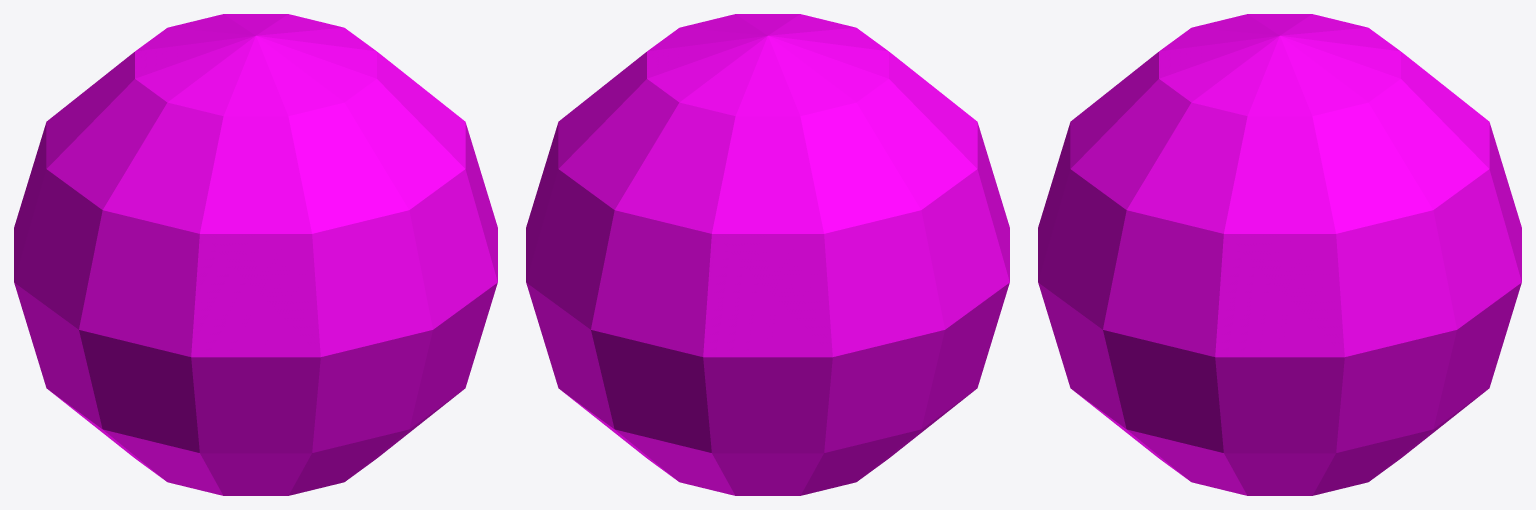
File: ball.gltf
3 renders of one model, left to right at view 1: azimuth 30°, elevation 25°; view 2: azimuth 150°, elevation 25°; view 3: azimuth 270°, elevation 25°, orthographic.
Parts seen in each view (by area): view 1: sphere; view 2: sphere; view 3: sphere.
Boxes of the visible parts, x1,y1,x2,y2 form: sphere: [14, 14, 497, 495]; sphere: [526, 14, 1009, 495]; sphere: [1038, 14, 1521, 495].
Bounding box in the file's own units: 1 × 1 × 1.
1 material, 1 textured.
